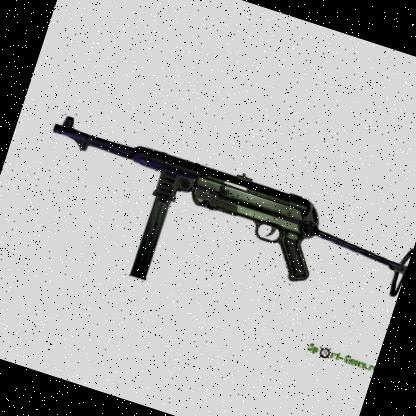rifle: (8, 91, 416, 359)
